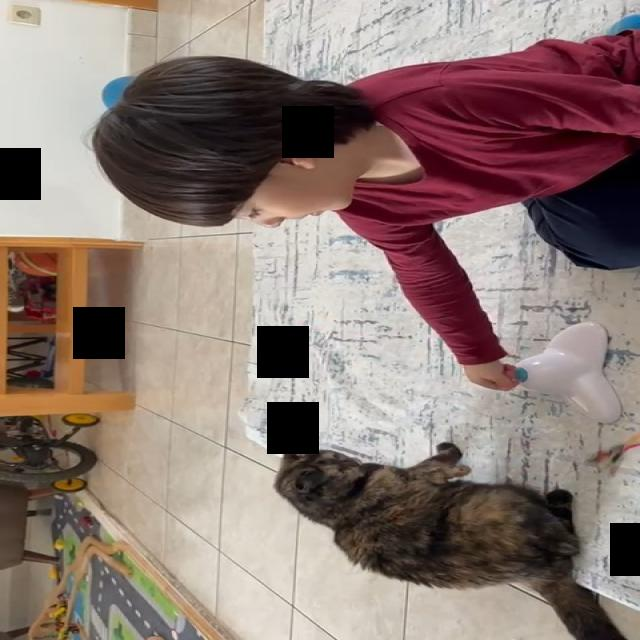authorized: (272, 441, 628, 639)
